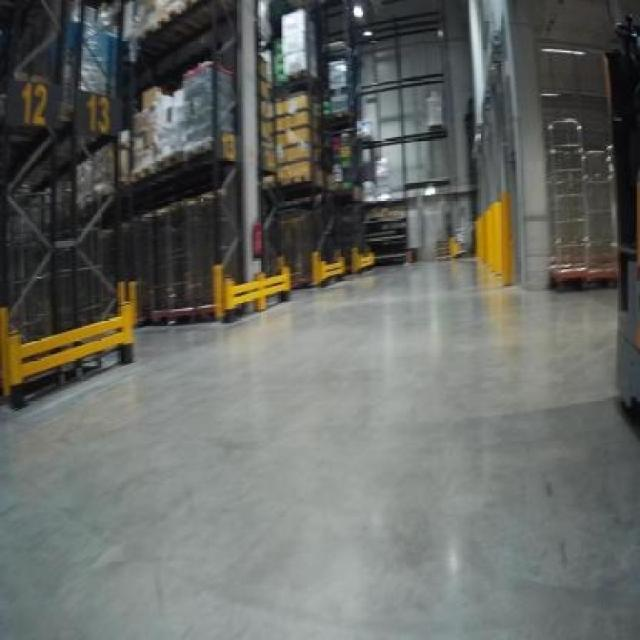floor: (0, 258, 637, 637)
pallets: (608, 12, 637, 412)
